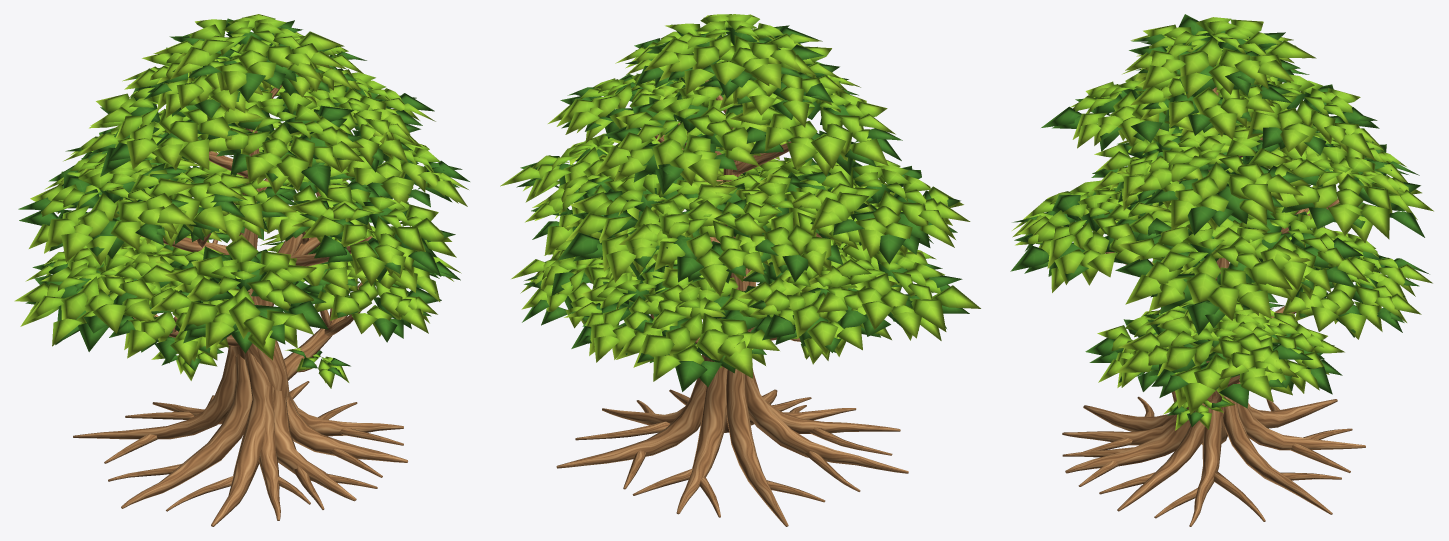
The model's file is WT_MatureTree_LOD0.fbx.
The picture shows the model from 3 angles, left to right: view 1: azimuth 30°, elevation 25°; view 2: azimuth 150°, elevation 25°; view 3: azimuth 270°, elevation 25°; orthographic projection.
Parts seen in each view (by area): view 1: WT_MatureTree_Foliage, WT_MatureTree_TrunkAndRoots, WT_MatureTree_Branches; view 2: WT_MatureTree_Foliage, WT_MatureTree_TrunkAndRoots, WT_MatureTree_Branches; view 3: WT_MatureTree_Foliage, WT_MatureTree_TrunkAndRoots, WT_MatureTree_Branches.
Part boxes in pixels (x1,y1,x2,y2): WT_MatureTree_Foliage: [14, 14, 469, 388]; WT_MatureTree_TrunkAndRoots: [73, 128, 407, 526]; WT_MatureTree_Branches: [133, 85, 372, 380]; WT_MatureTree_Foliage: [500, 14, 980, 391]; WT_MatureTree_TrunkAndRoots: [556, 105, 908, 526]; WT_MatureTree_Branches: [628, 80, 821, 343]; WT_MatureTree_Foliage: [1010, 14, 1433, 430]; WT_MatureTree_TrunkAndRoots: [1062, 88, 1365, 526]; WT_MatureTree_Branches: [1105, 87, 1339, 406].
Bounding box in the file's own units: 10.01 × 9.24 × 8.41.
